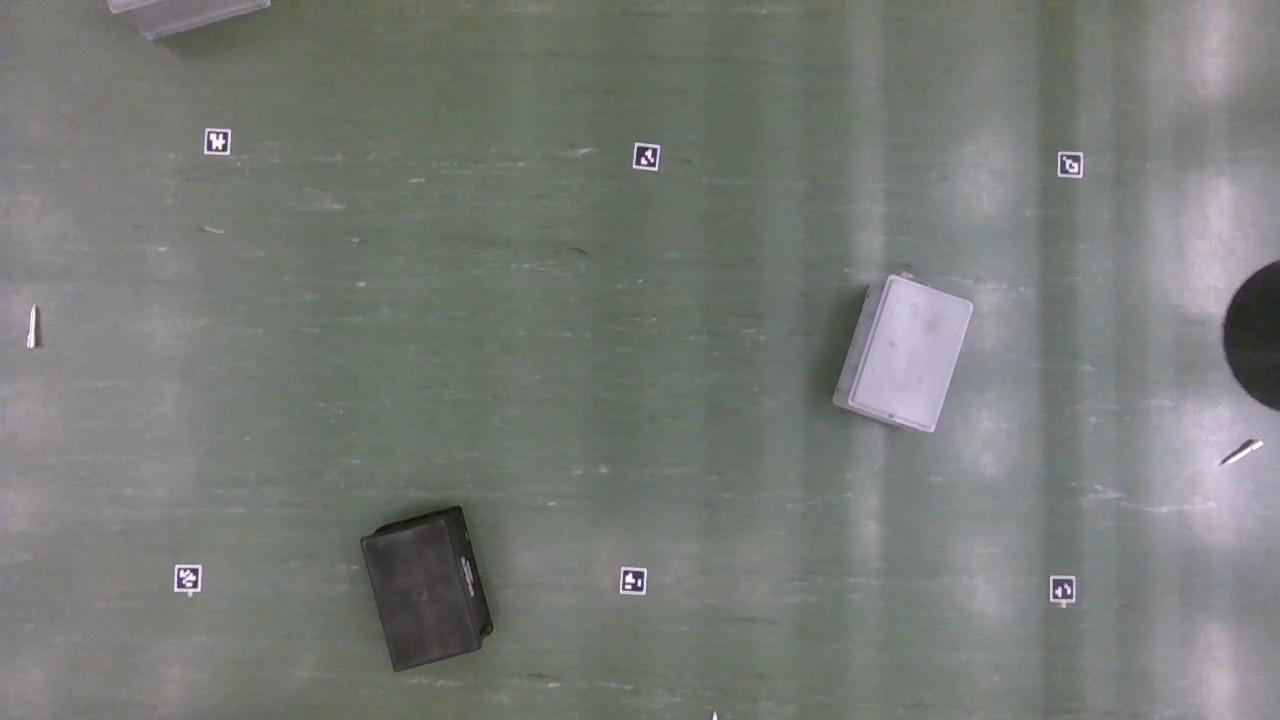probes: (1222, 440, 1259, 467), (29, 308, 39, 350)
rako: (833, 275, 973, 436), (361, 509, 493, 675)
